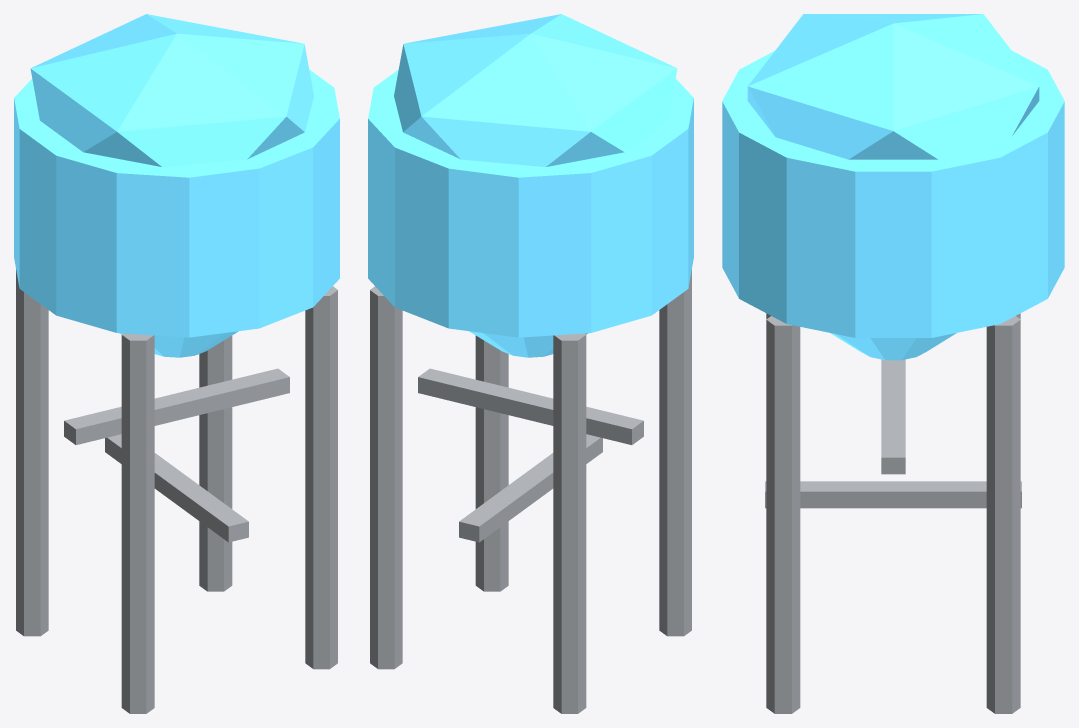
The model's file is water.glb.
3 views of the same model, side by side, from view 1: azimuth 30°, elevation 25°; view 2: azimuth 150°, elevation 25°; view 3: azimuth 270°, elevation 25° (orthographic). The views are drawn at different scales.
Visible parts, largest first — view 1: water; view 2: water; view 3: water.
Boxes of the visible parts, <box> form: water: <box>14,14,339,713</box>; water: <box>368,14,693,713</box>; water: <box>722,14,1064,713</box>.
Size of the model in its own units: 0.546 by 1.15 by 0.56.
